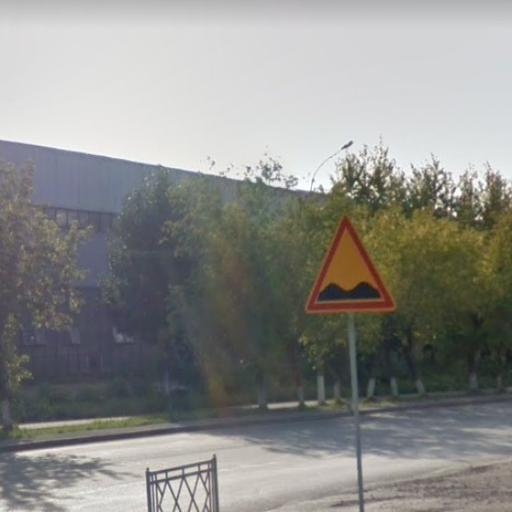traffic_sign: (303, 210, 399, 321)
